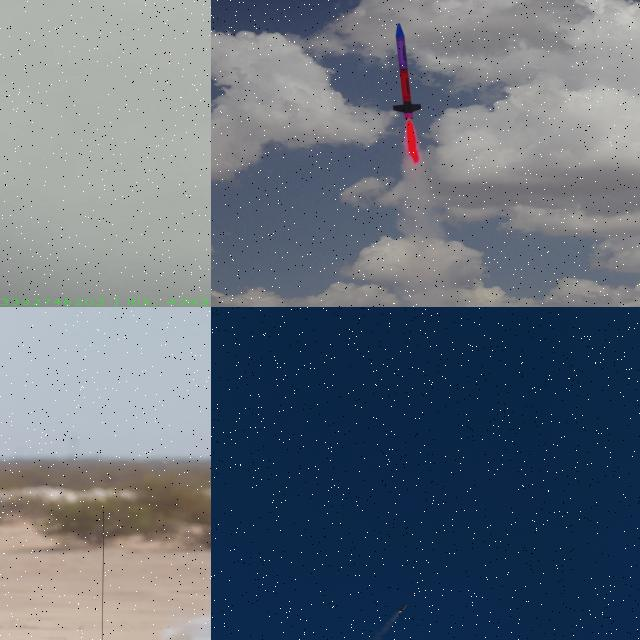Rocket: (392, 23, 422, 119), (396, 602, 408, 613)
